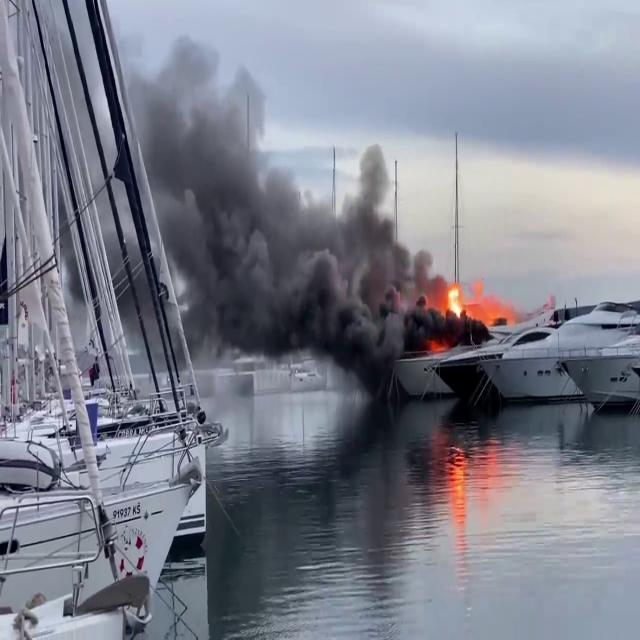Fire: (443, 276, 462, 322)
Smoke: (144, 32, 432, 378)
